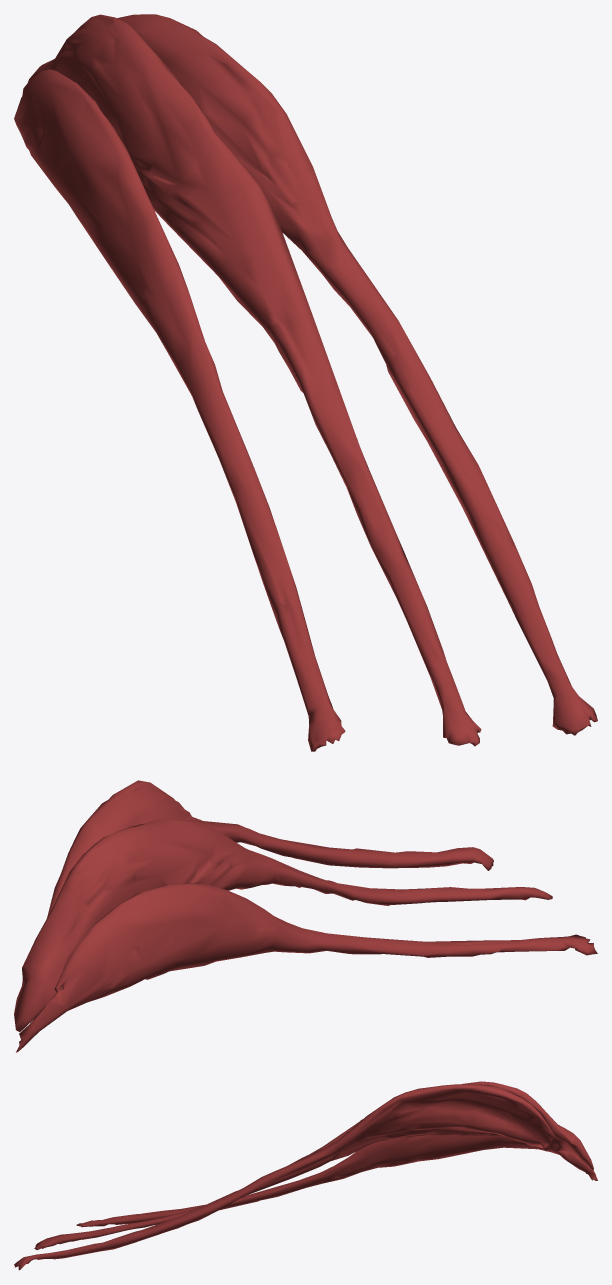
Rendered from extensor-digitorum-brevis-r.glb.
The picture shows the model from 3 angles, top to bottom: view 1: azimuth 30°, elevation 25°; view 2: azimuth 150°, elevation 25°; view 3: azimuth 270°, elevation 25°; orthographic projection. The views are drawn at different scales.
Visible parts, largest first — view 1: Extensor digitorum brevis.r; view 2: Extensor digitorum brevis.r; view 3: Extensor digitorum brevis.r.
Part boxes in pixels (box(x1,y1,x2,y2)): Extensor digitorum brevis.r: box(14, 14, 597, 751); Extensor digitorum brevis.r: box(14, 780, 597, 1052); Extensor digitorum brevis.r: box(14, 1081, 597, 1270).
Bounding box in the file's own units: 0.0428 × 0.0587 × 0.1541.
